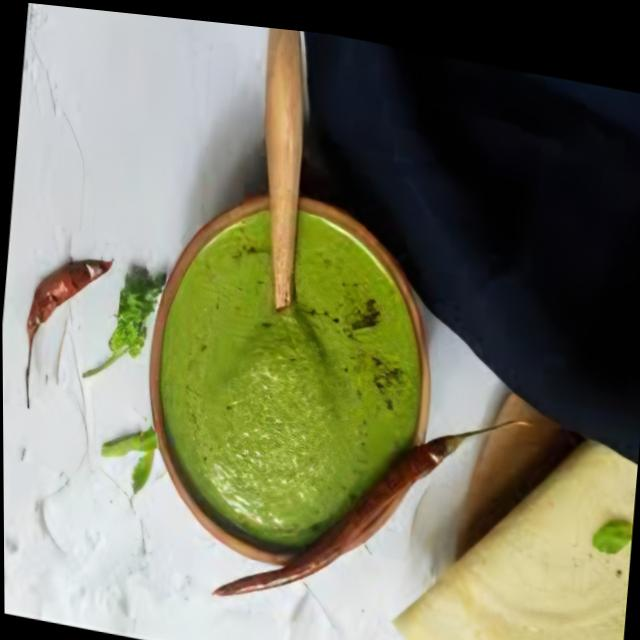DOSA: (385, 398, 639, 640)
GREEN CHUTNEY: (137, 179, 437, 604)
